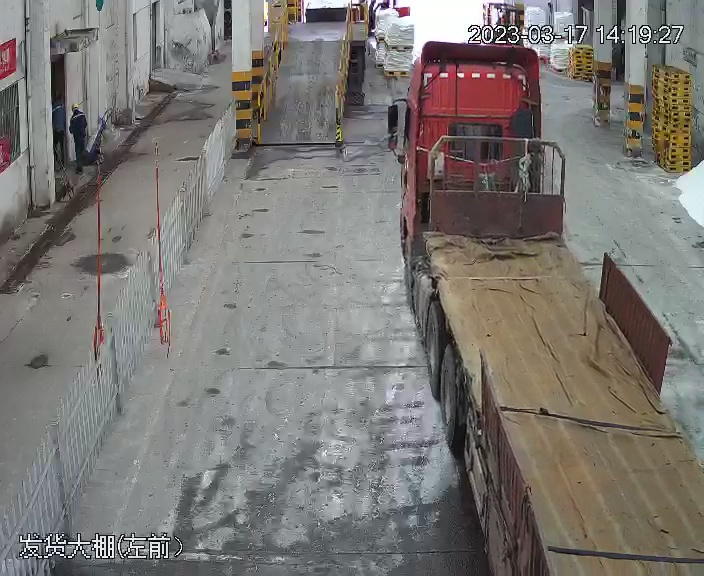head: (69, 103, 85, 123)
helmet: (70, 103, 80, 111)
people: (69, 103, 89, 174)
truck: (384, 45, 703, 571)
